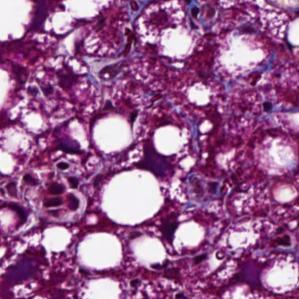inflammation: (15, 166, 82, 212), (171, 169, 229, 206), (126, 269, 189, 299), (177, 0, 208, 35)
